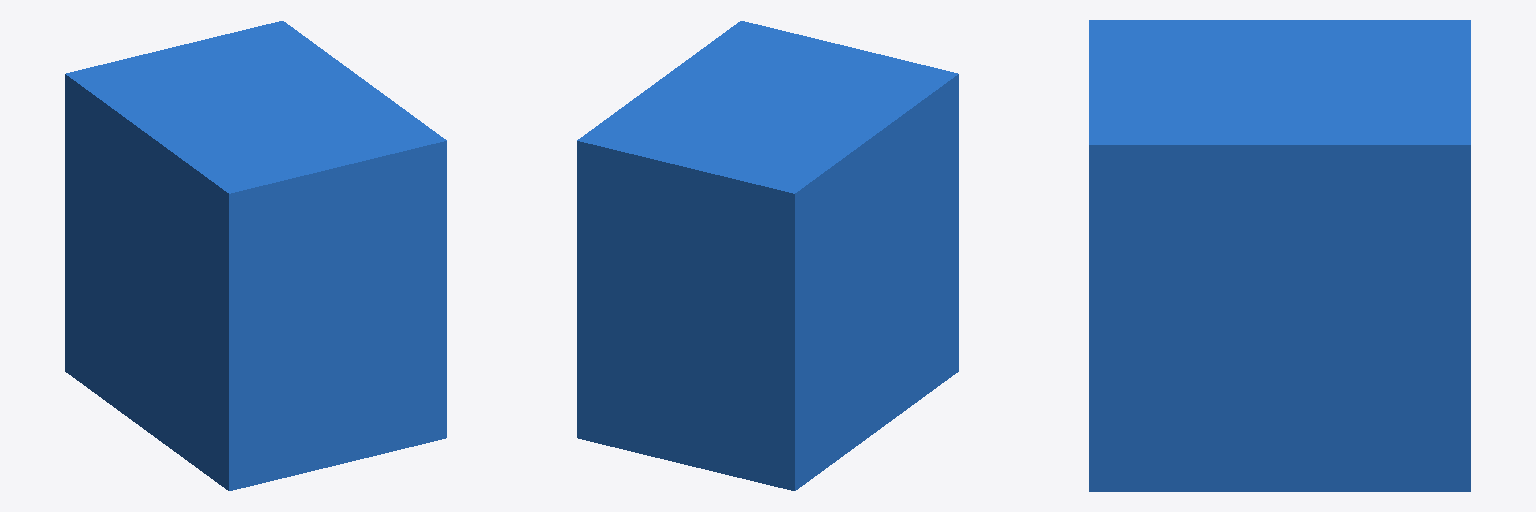
robot.urdf — motion_matching_platform:
<?xml version="1.0"?>
<robot name="motion_matching_platform">
  <link name="platform_link">
    <visual>
      <origin xyz="-0.950000000 -0.100000000 0.300000000" rpy="0 0 -0.000000000"/>
      <geometry><box size="0.460000000 0.600000000 0.600000000"/></geometry>
      <material name="platform_blue"><color rgba="0.25 0.55 0.90 1.0"/></material>
    </visual>
    <collision>
      <origin xyz="-0.950000000 -0.100000000 0.300000000" rpy="0 0 -0.000000000"/>
      <geometry><box size="0.460000000 0.600000000 0.600000000"/></geometry>
    </collision>
  </link>
</robot>

--- What the picture shows (computed from the rendered views, not written in the file) ---
3 views of the same robot in one strip: view 1: azimuth 30°, elevation 25°; view 2: azimuth 150°, elevation 25°; view 3: azimuth 270°, elevation 25° (orthographic).
Model motion_matching_platform with 1 links and 0 joints (none), rooted at platform_link, posed all joints at 0.
Links seen in each view (by area): view 1: platform_link; view 2: platform_link; view 3: platform_link.
Boxes of the visible links, <box> form: platform_link: <box>65,21,446,490</box>; platform_link: <box>577,21,958,490</box>; platform_link: <box>1089,20,1470,491</box>.
Size in the robot's own frame: 0.46 by 0.6 by 0.6 metres.
Geometry: primitives only (box / cylinder / sphere), no mesh files.
